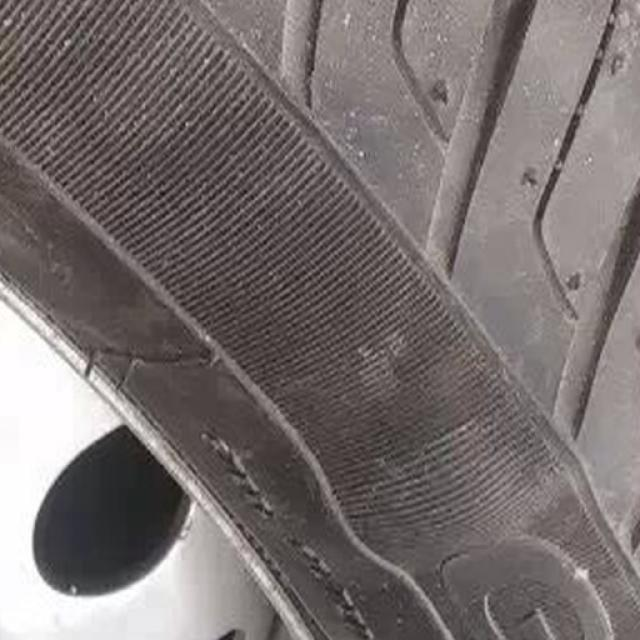Bulge: (311, 406, 585, 564)
